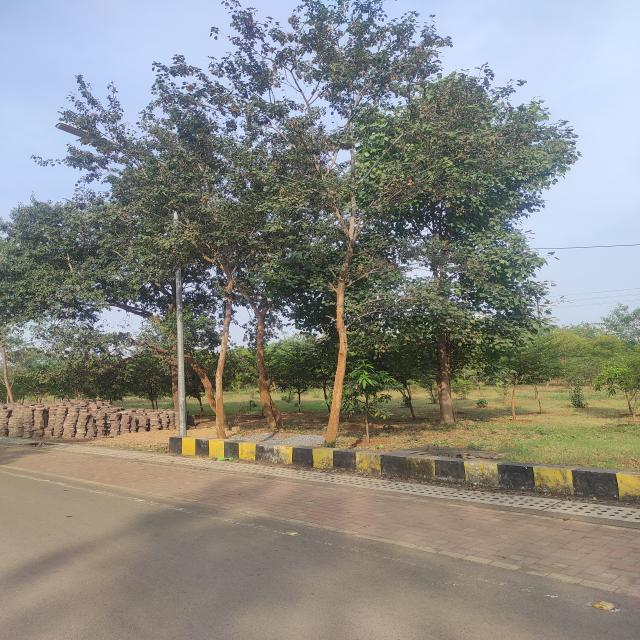Devakanchan tree: (155, 1, 563, 423)
